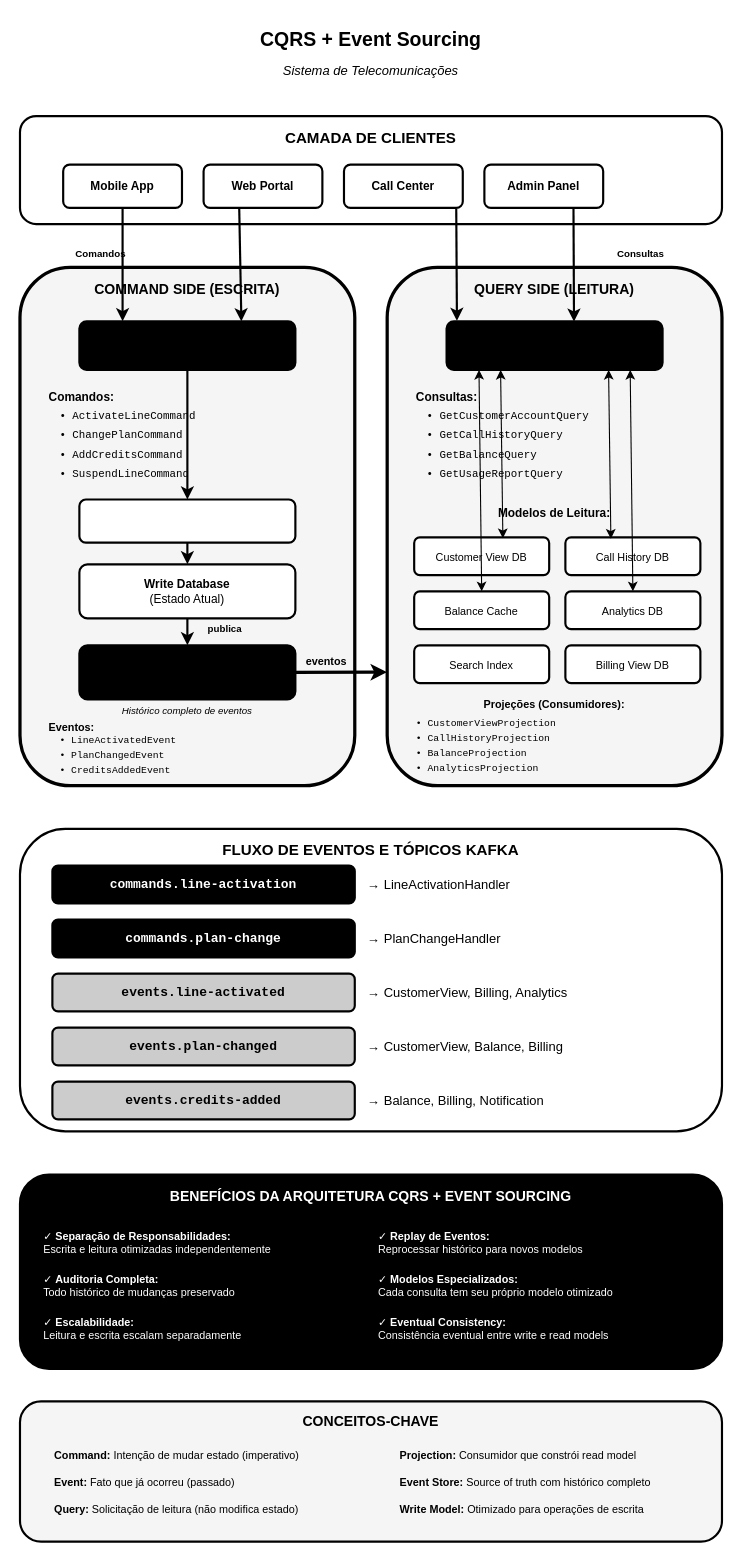
Image size: 742x1561. Some labels were removed from this diagram. The shapes that lost their labels are listed below. From the top down, each one's box as (x1, y1, x2, y2) in pixels, then its label:
(78, 320, 296, 370): Command API
(445, 320, 663, 370): Query API
(78, 498, 296, 543): Command Handler
(78, 644, 296, 700): Tópico: event-store (Event Sourcing)
